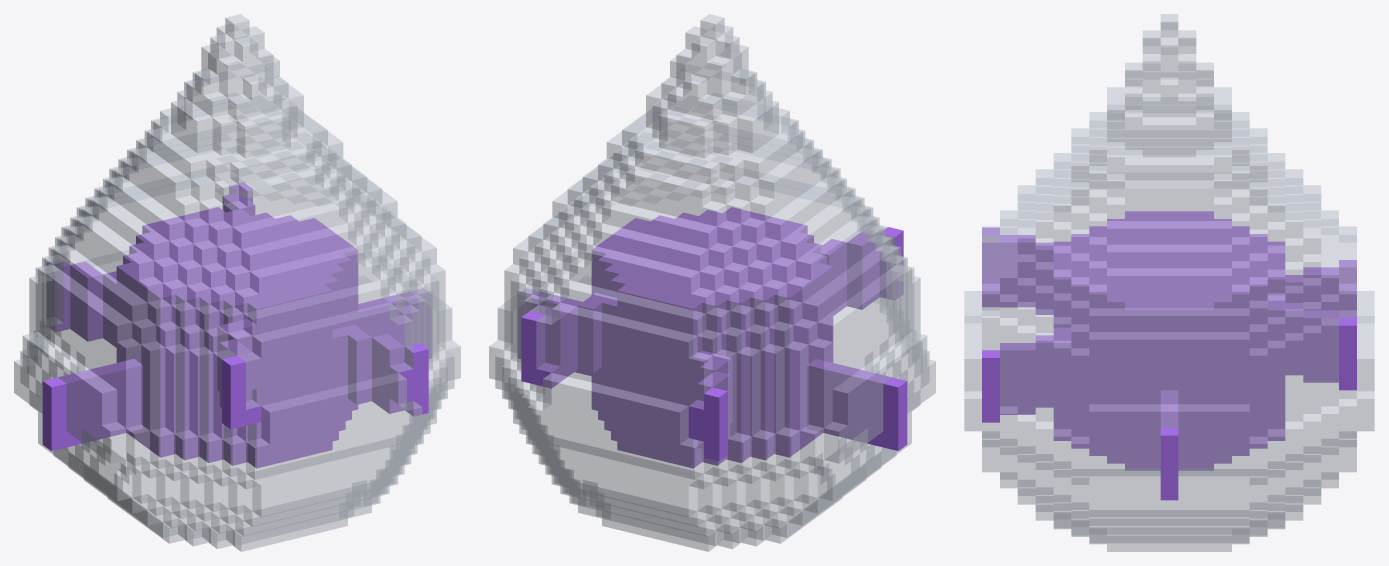
Rendered from glowing_egg.glb.
The picture shows the model from 3 angles, left to right: view 1: azimuth 30°, elevation 25°; view 2: azimuth 150°, elevation 25°; view 3: azimuth 270°, elevation 25°; orthographic projection.
Parts seen in each view (by area): view 1: glowing_egg:compound; view 2: glowing_egg:compound; view 3: glowing_egg:compound.
Boxes of the visible parts, left/top/right/bottom form: glowing_egg:compound: left=14, top=14, right=460, bottom=551; glowing_egg:compound: left=489, top=14, right=935, bottom=551; glowing_egg:compound: left=964, top=14, right=1374, bottom=551.
Bounding box in the file's own units: 0.05 × 0.06 × 0.046.
